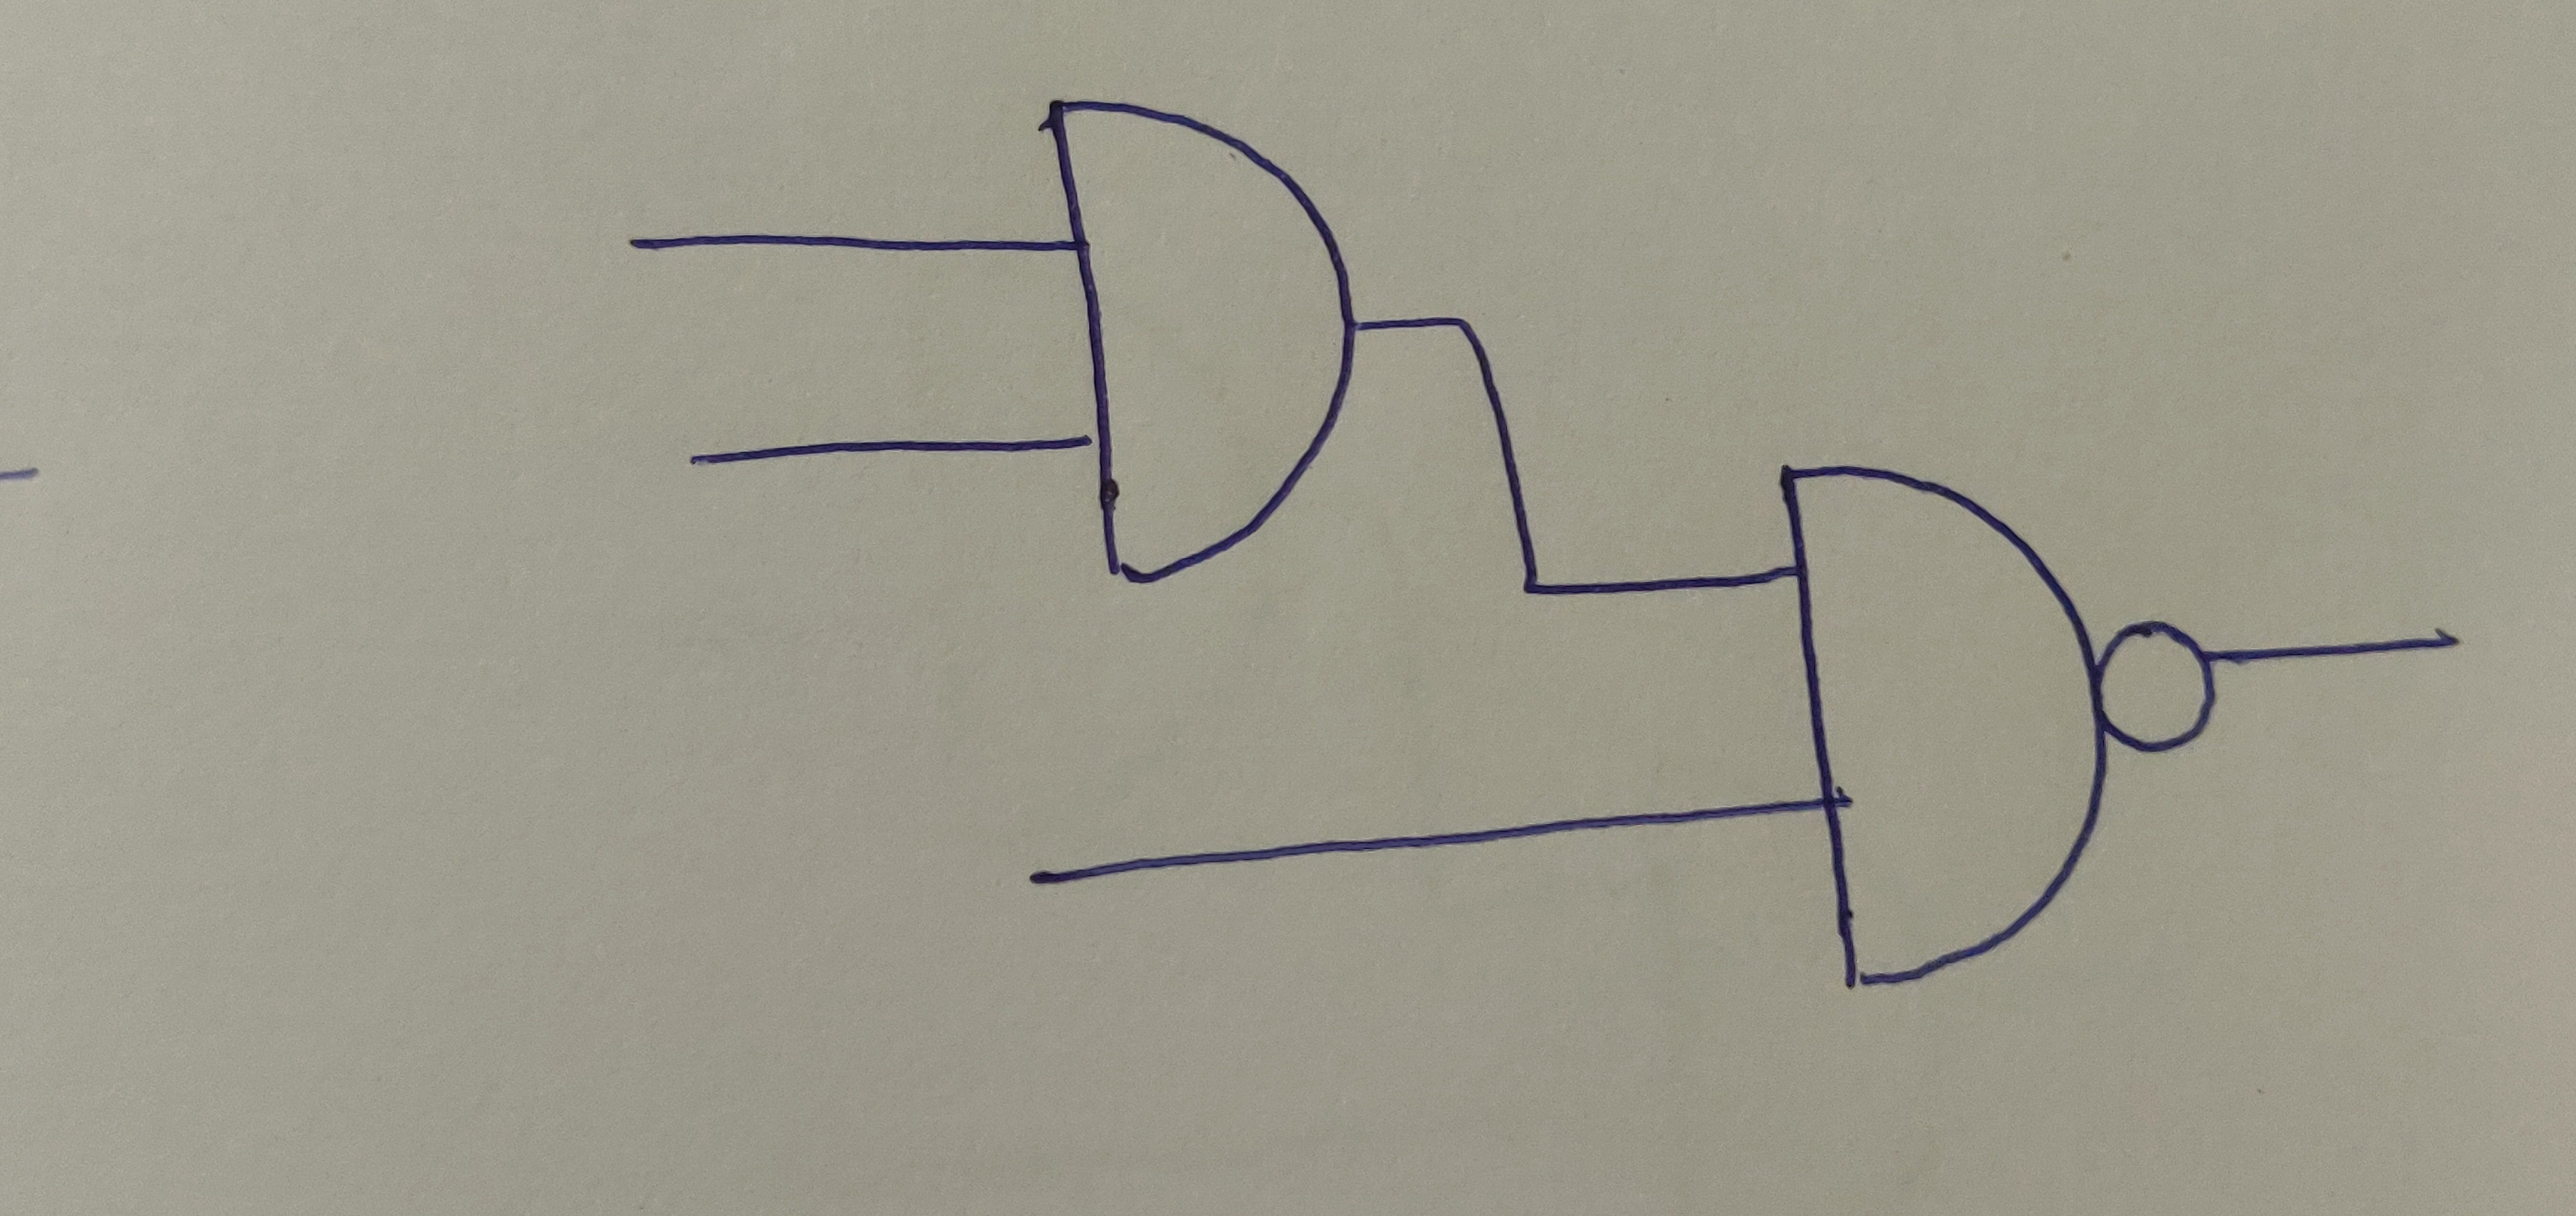and: (1768, 463, 2106, 994), (1040, 97, 1364, 582)
not: (2100, 624, 2224, 753)
